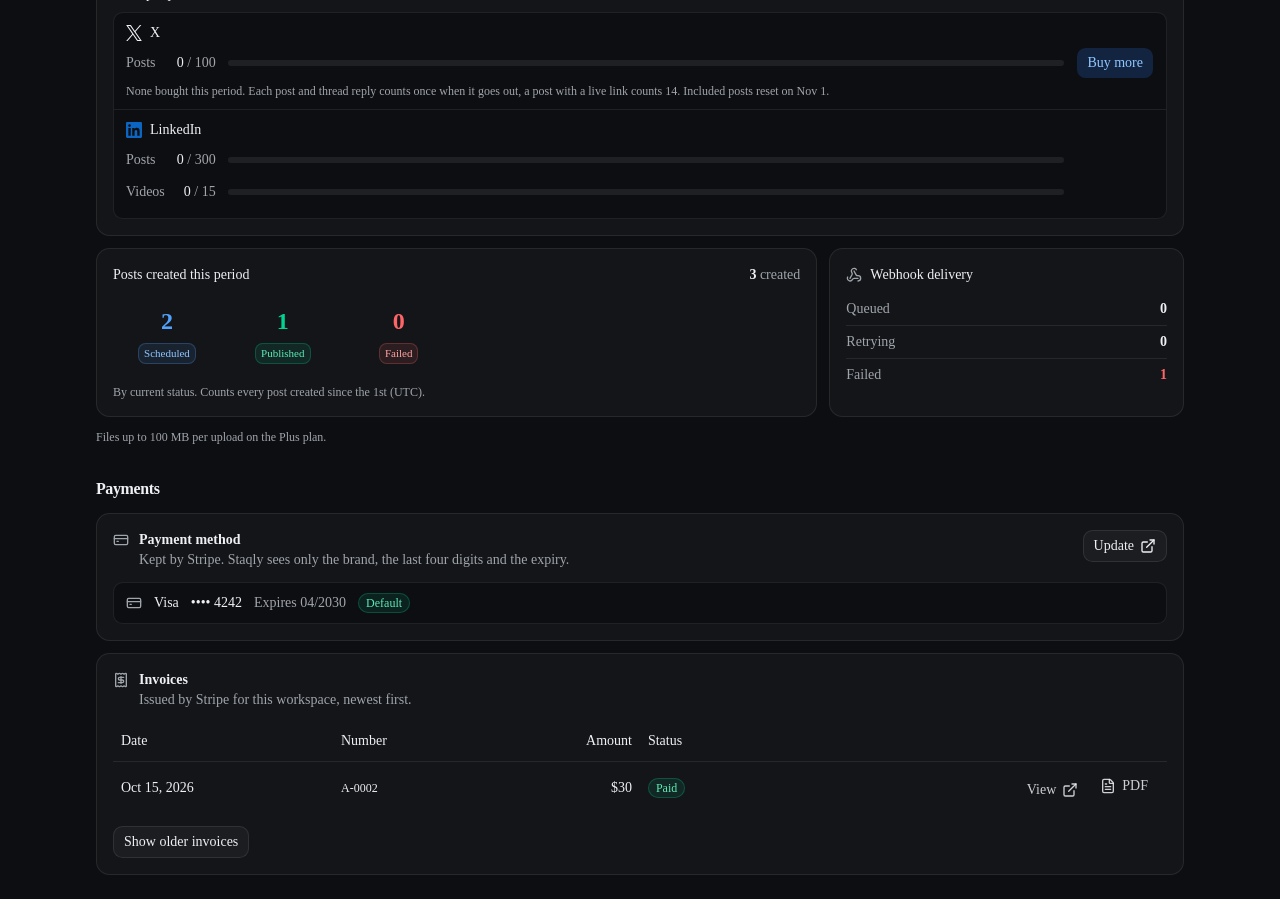
it: plan & usage › a paying workspace: status, price per user, seats, the next payment, the card, invoices and older pages
(page scrolled)
Expected: the list with test id "payment-methods" shows "4242", 214,594 -> 242,610
Expected: the list with test id "payment-methods" shows "Expires 04/2030", 113,582 -> 1167,624
Click the button "Show older invoices" at (181, 842), box 113,826 -> 249,858
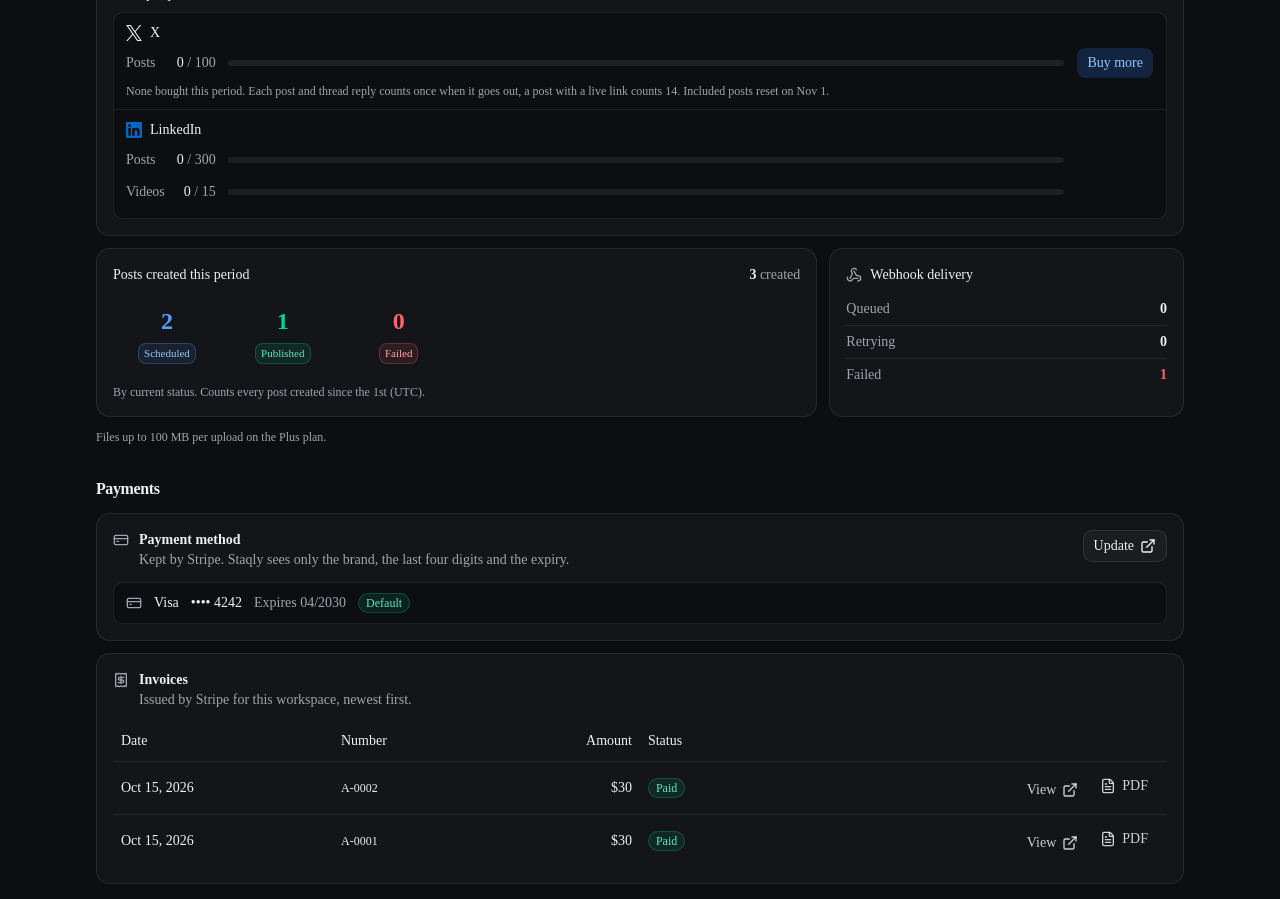
Expected: the number of rows with test id "invoice-row" is 2, 113,762 -> 1167,814; 113,814 -> 1167,867
Expected: the button "Show older invoices" is gone
